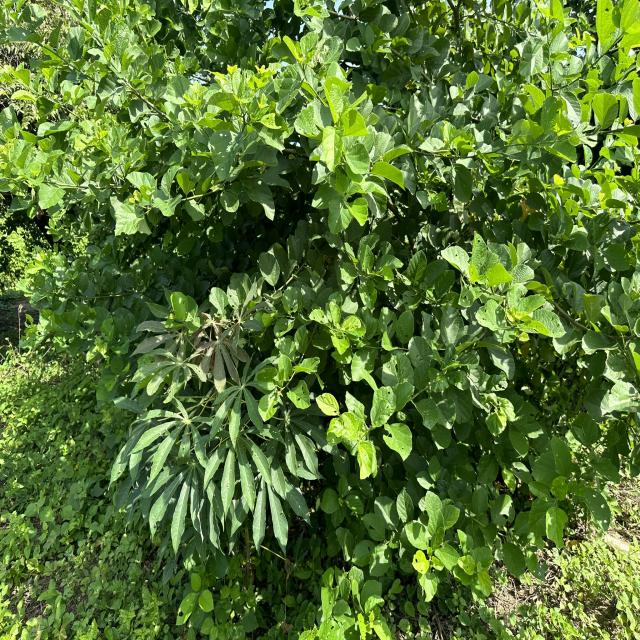Maleza: (418, 198, 631, 568), (88, 0, 475, 194), (337, 394, 640, 640), (296, 132, 502, 466), (396, 1, 640, 248), (0, 223, 109, 640), (0, 98, 253, 250), (11, 2, 244, 153), (86, 559, 365, 640), (197, 227, 306, 327), (260, 291, 328, 423)
Mosca: (278, 508, 287, 518), (180, 442, 187, 452), (117, 468, 125, 474)
